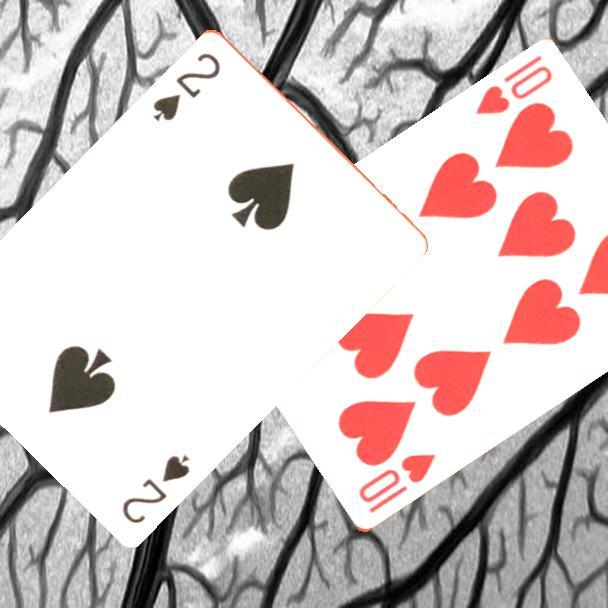h10: (354, 450, 439, 517), (472, 52, 555, 119)
s02: (149, 48, 224, 124), (118, 450, 193, 526)
